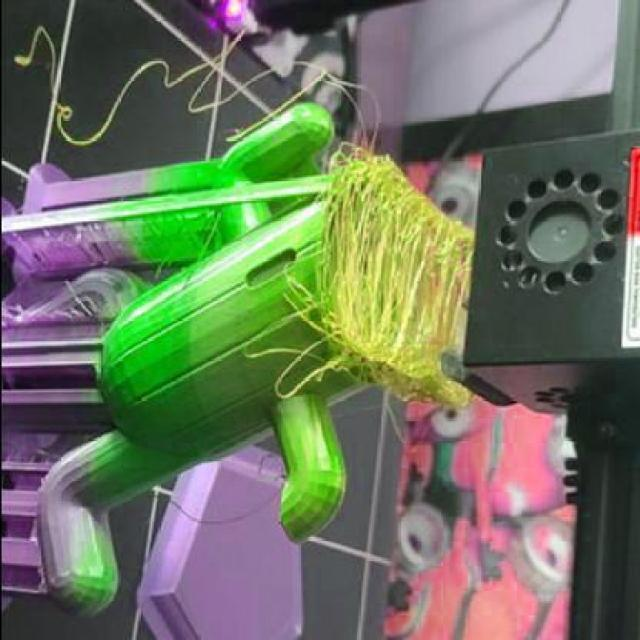spaghetti: (244, 140, 478, 411), (14, 26, 382, 146)
